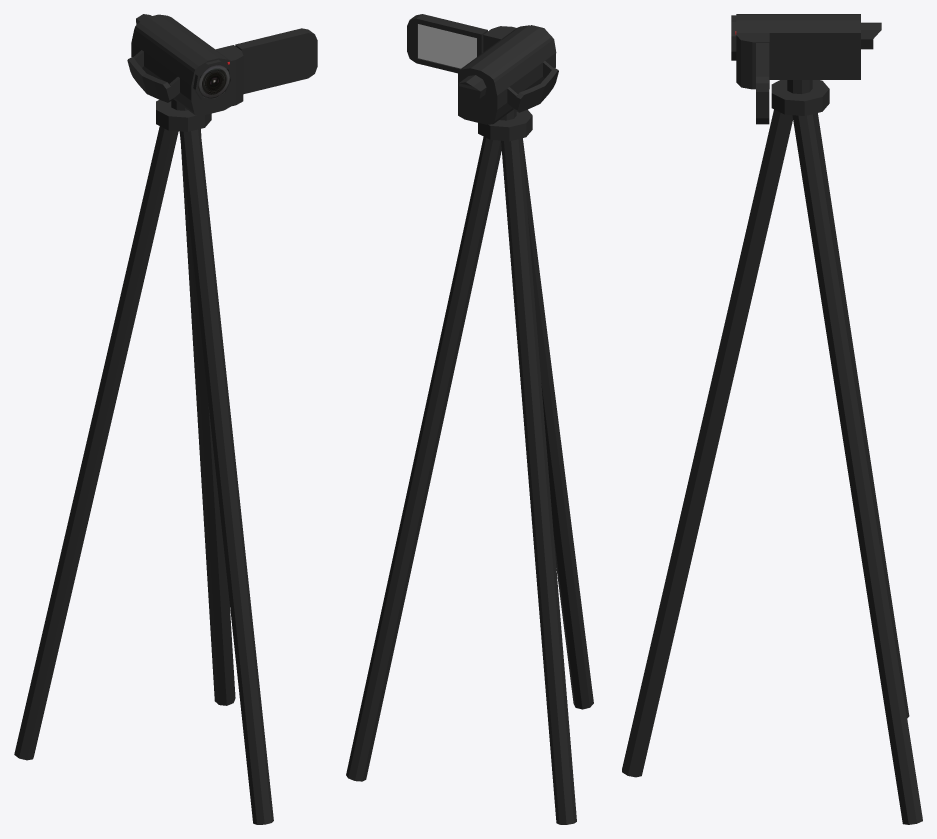
File: camera.fbx
3 views of the same model, side by side, from view 1: azimuth 30°, elevation 25°; view 2: azimuth 150°, elevation 25°; view 3: azimuth 270°, elevation 25° (orthographic). The views are drawn at different scales.
Visible parts, largest first — view 1: Tripod, Camera; view 2: Tripod, Camera; view 3: Tripod, Camera.
Part boxes in pixels (bbox=[...]): Tripod: bbox=[14, 99, 273, 824]; Camera: bbox=[127, 14, 317, 115]; Tripod: bbox=[346, 109, 593, 824]; Camera: bbox=[407, 14, 558, 124]; Tripod: bbox=[622, 80, 922, 824]; Camera: bbox=[731, 14, 881, 124].
Size of the model in its own units: 59.67 by 178 by 63.99.
